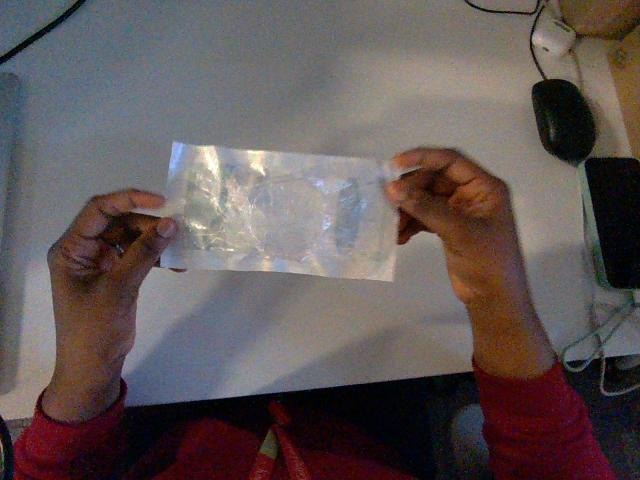gallipot: (161, 143, 396, 280)
